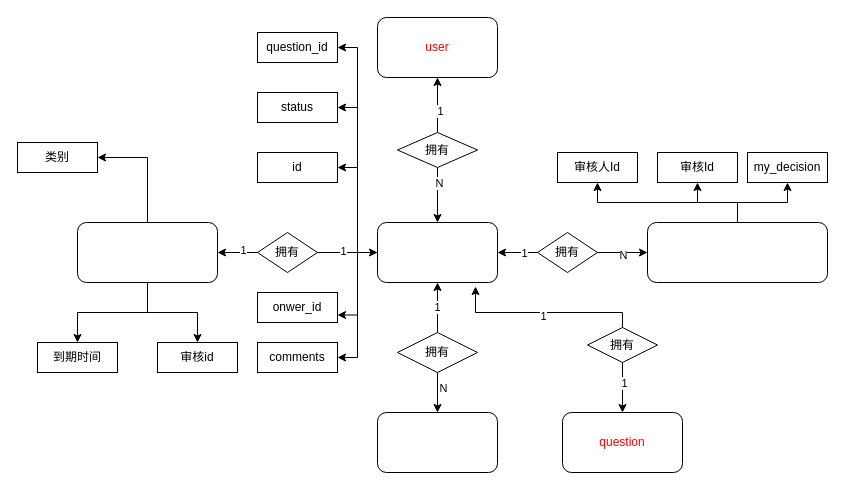
Image size: 845x490. Some labels were removed from this diagram. The shapes that lost their labels are listed below. From the top down, each one's box as (x1, y1, x2, y2) in pixels, then its label:
(76, 222, 218, 282): question_review_timer
(376, 222, 498, 282): question_review
(646, 222, 828, 282): assessor_review_questions
(376, 412, 498, 472): comment
